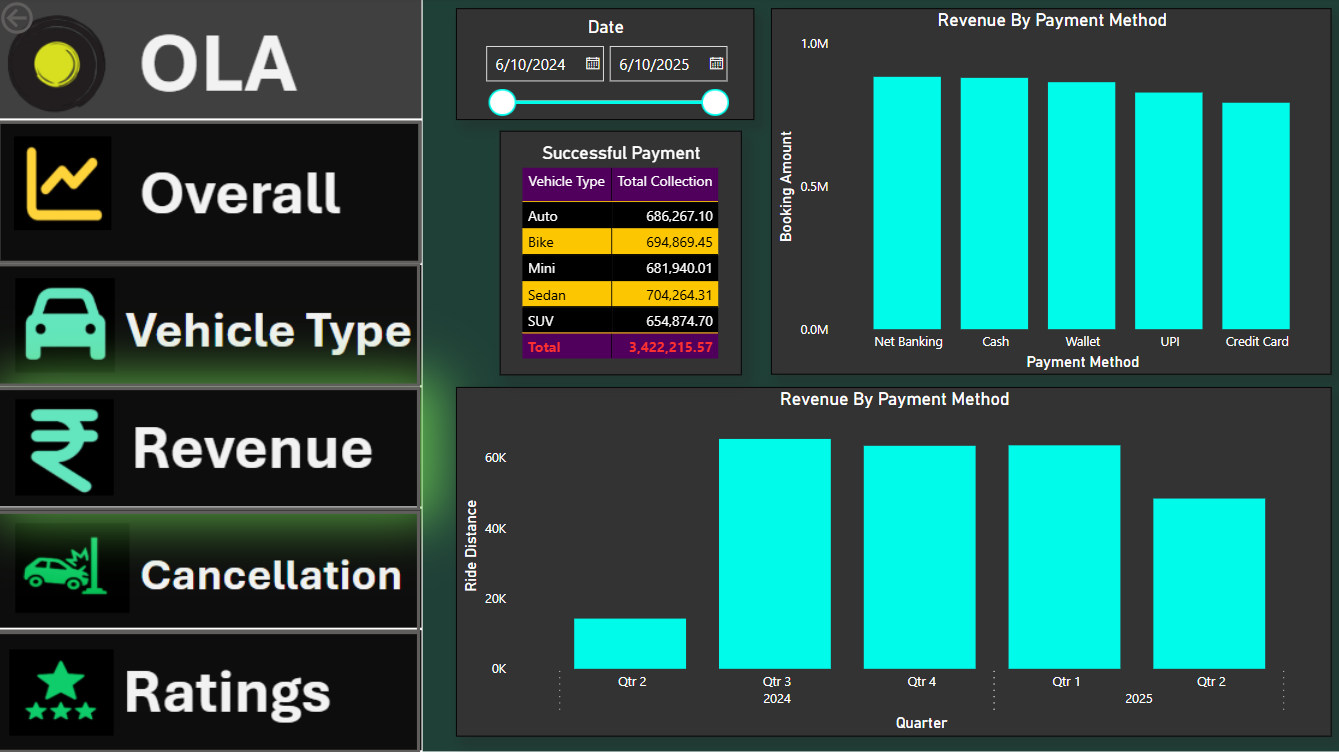

What the dashboard file says about the page in this screenshot:
{"tool":"powerbi","page":{"name":"Revenue","canvas":[1280,720],"ordinal":2},"visuals":[{"type":"actionButton","box":[0,371.2,403.8,117.5],"z":0},{"type":"actionButton","box":[1.2,117.5,403.8,136.2],"z":1000},{"type":"actionButton","box":[0,253.8,403.8,117.5],"z":2000},{"type":"actionButton","box":[0,488.8,403.8,117.5],"z":3000},{"type":"actionButton","box":[0,602.5,403.8,117.5],"z":4000},{"type":"columnChart","title":"Revenue By Payment Method","fields":{"Y":["Sum(ola_booking_data.Booking Amount)"],"Category":["ola_booking_data.Payment Method"]},"box":[737.5,11.2,533.8,348.8],"z":5000},{"type":"columnChart","title":"Revenue By Payment Method","fields":{"Y":["Sum(ola_booking_data.Ride Distance)"],"Category":["ola_booking_data.Date.Variation.Date Hierarchy.Year","ola_booking_data.Date.Variation.Date Hierarchy.Quarter"]},"box":[437.5,371.2,833.8,332.5],"z":6000},{"type":"slicer","title":"Date","fields":{"Values":["ola_booking_data.Date"]},"box":[437.5,11.2,283.8,106.2],"z":7000},{"type":"tableEx","title":"Successful Payment","fields":{"Values":["ola_booking_data.Vehicle Type","Sum(ola_booking_data.Booking Amount)"]},"box":[480,127.5,230,232.5],"z":8000},{"type":"actionButton","box":[0,0,100,40],"z":9000}]}

Visuals, with their boxes in screenshot pixels (x1, y1, x2, y2), scaled from the page's 1280x720 canvas onto the 1339x752 screenshot:
actionButton: pyautogui.locateOnScreen(0, 388, 422, 510)
actionButton: pyautogui.locateOnScreen(1, 123, 424, 265)
actionButton: pyautogui.locateOnScreen(0, 265, 422, 388)
actionButton: pyautogui.locateOnScreen(0, 511, 422, 633)
actionButton: pyautogui.locateOnScreen(0, 629, 422, 751)
"Revenue By Payment Method" columnChart: pyautogui.locateOnScreen(771, 12, 1330, 376)
"Revenue By Payment Method" columnChart: pyautogui.locateOnScreen(458, 388, 1330, 735)
"Date" slicer: pyautogui.locateOnScreen(458, 12, 755, 123)
"Successful Payment" tableEx: pyautogui.locateOnScreen(502, 133, 743, 376)
actionButton: pyautogui.locateOnScreen(0, 0, 105, 42)
